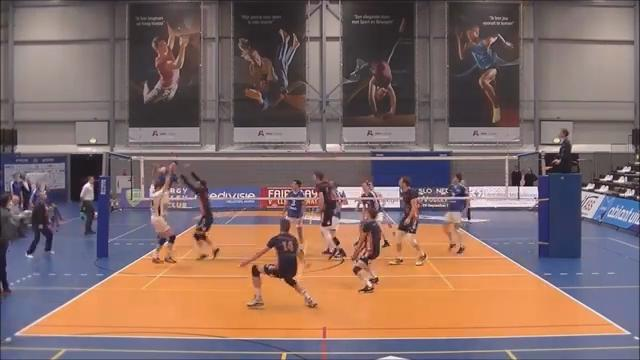Attack: (151, 156, 180, 188)
Player: (240, 219, 316, 307), (180, 172, 219, 259), (389, 177, 426, 265), (313, 172, 345, 259), (352, 207, 381, 292), (151, 178, 175, 263), (444, 177, 467, 253), (284, 180, 305, 243), (359, 181, 384, 226), (329, 180, 347, 242)
ball: (154, 165, 168, 175)
